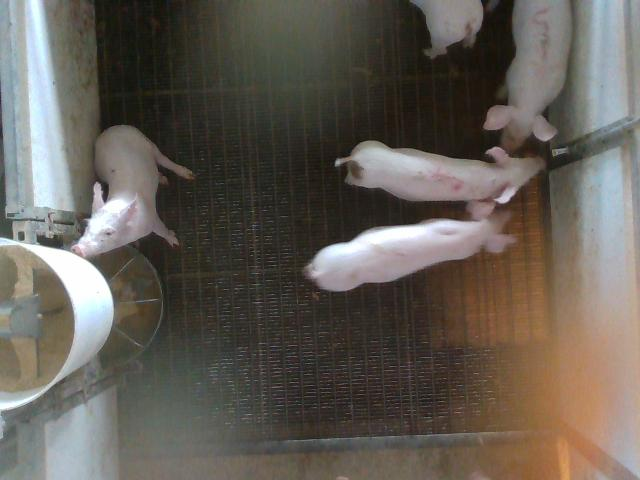pig-3: (484, 0, 572, 153)
pig-5: (335, 140, 544, 219)
